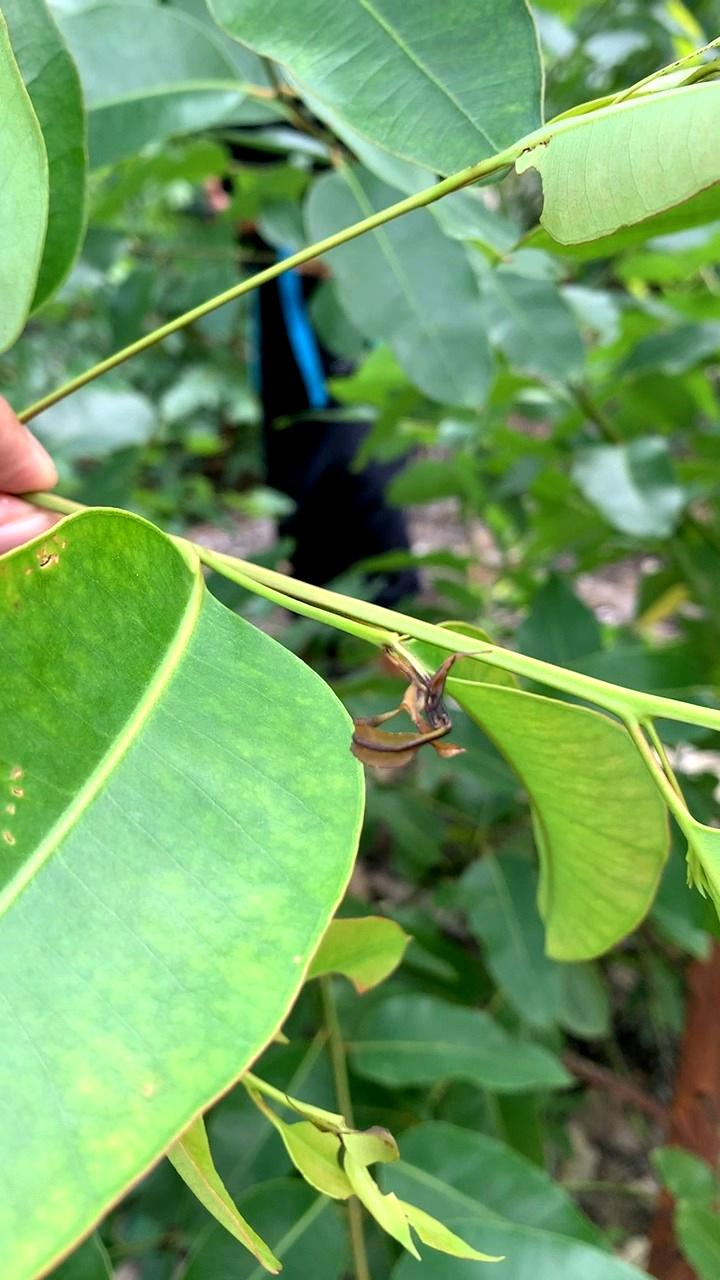Helopeltis-Withered Sprout: (341, 628, 496, 795)
